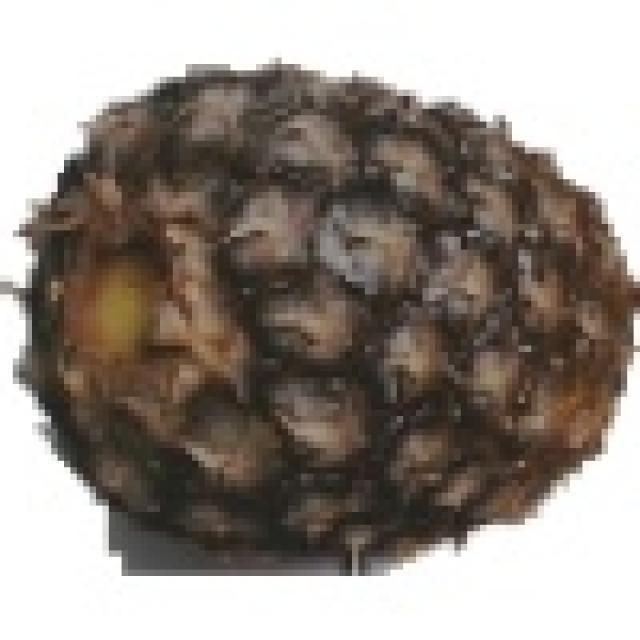pineapple: (38, 58, 640, 563)
